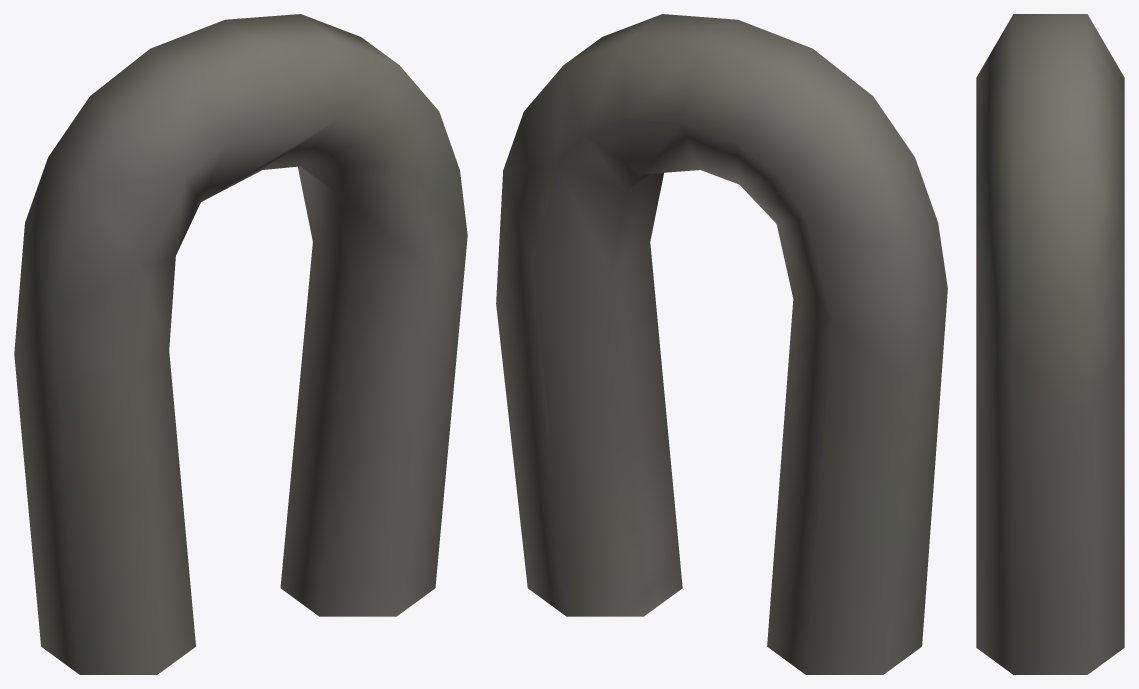
File: modular_electric_cables.glb
3 views of the same model, side by side, from view 1: azimuth 30°, elevation 25°; view 2: azimuth 150°, elevation 25°; view 3: azimuth 270°, elevation 25° (orthographic). The views are drawn at different scales.
Visible parts, largest first — view 1: cable_double_uturn; view 2: cable_double_uturn; view 3: cable_double_uturn.
Boxes of the visible parts, x1,y1,x2,y2 form: cable_double_uturn: (14, 14, 467, 674); cable_double_uturn: (496, 14, 947, 674); cable_double_uturn: (976, 14, 1124, 674).
Size of the model in its own units: 0.0346 by 0.0465 by 0.0112.
1 material, 1 textured.
